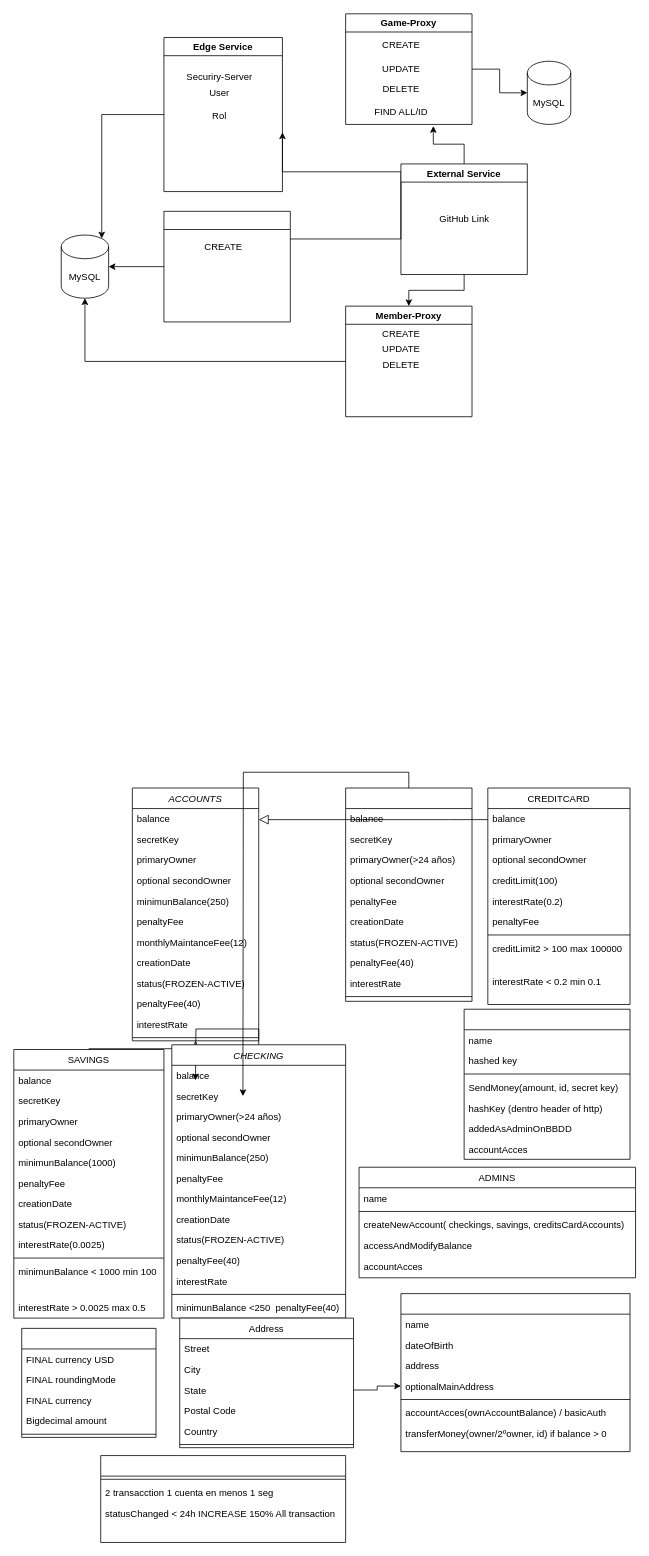
The diagram is 649 pixels wide and 1556 high, and some of its shapes have lost their labels. Here are the shapes that lost their labels. From the top down, the box of each, then its label:
(163, 211, 290, 322): Player-Proxy
(345, 787, 472, 1001): STUDENTCHECKING
(463, 1008, 630, 1159): THIRDPARTY
(21, 1328, 156, 1437): Money
(400, 1293, 630, 1452): ACCOUNTHOLDERS
(100, 1455, 346, 1542): Extra FRAUD
